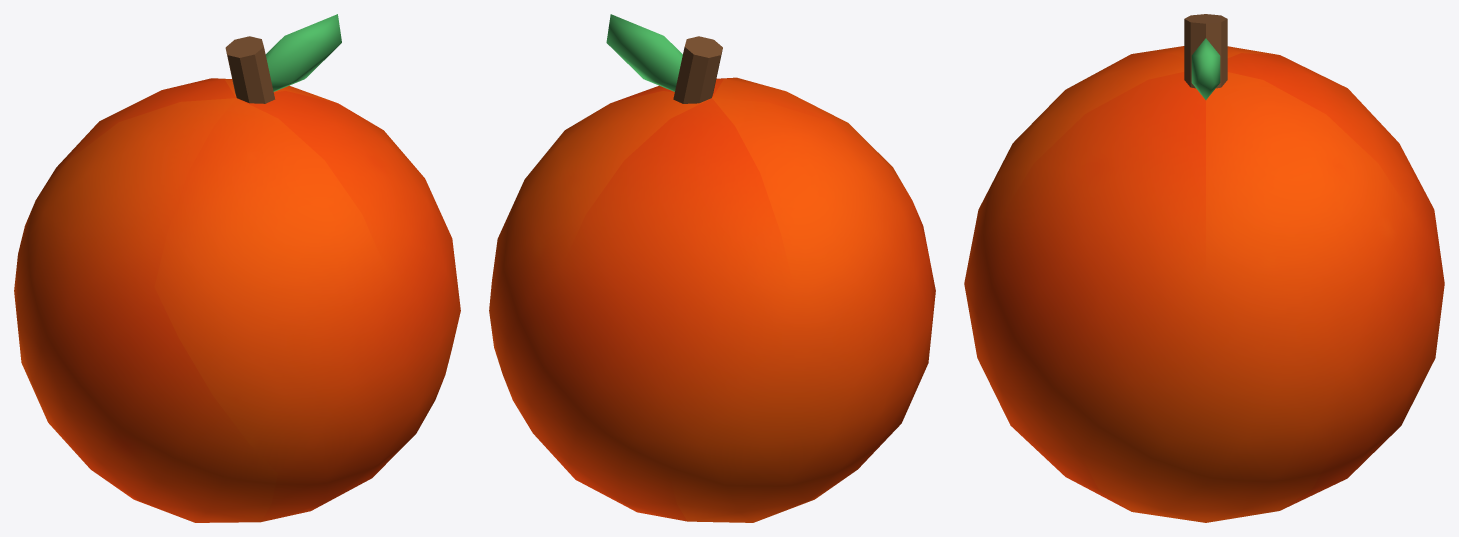
The model's file is orange.glb.
3 views of the same model, side by side, from view 1: azimuth 30°, elevation 25°; view 2: azimuth 150°, elevation 25°; view 3: azimuth 270°, elevation 25° (orthographic). The views are drawn at different scales.
Visible parts, largest first — view 1: Orange_Body, Orange_Leaf, Orange_Stem; view 2: Orange_Body, Orange_Leaf, Orange_Stem; view 3: Orange_Body, Orange_Stem, Orange_Leaf.
Boxes of the visible parts, x1=… form: Orange_Body: x1=14, y1=78, x2=460, y2=522; Orange_Leaf: x1=265, y1=14, x2=341, y2=91; Orange_Stem: x1=225, y1=36, x2=275, y2=103; Orange_Body: x1=489, y1=77, x2=935, y2=522; Orange_Leaf: x1=606, y1=14, x2=682, y2=91; Orange_Stem: x1=673, y1=36, x2=722, y2=103; Orange_Body: x1=964, y1=46, x2=1444, y2=522; Orange_Stem: x1=1184, y1=14, x2=1227, y2=88; Orange_Leaf: x1=1191, y1=38, x2=1220, y2=99.
Bounding box in the file's own units: 1 × 1.15 × 1.
3 materials, 1 textured.
